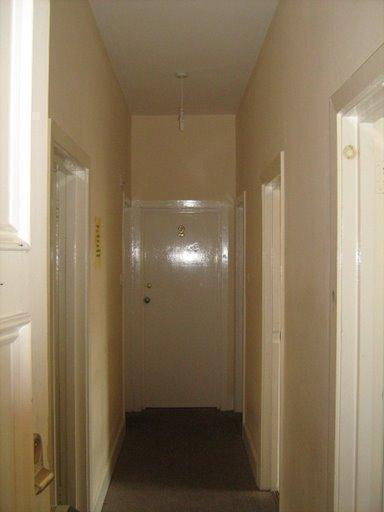Puerta: (135, 207, 228, 414), (51, 137, 85, 508), (262, 178, 284, 500)
